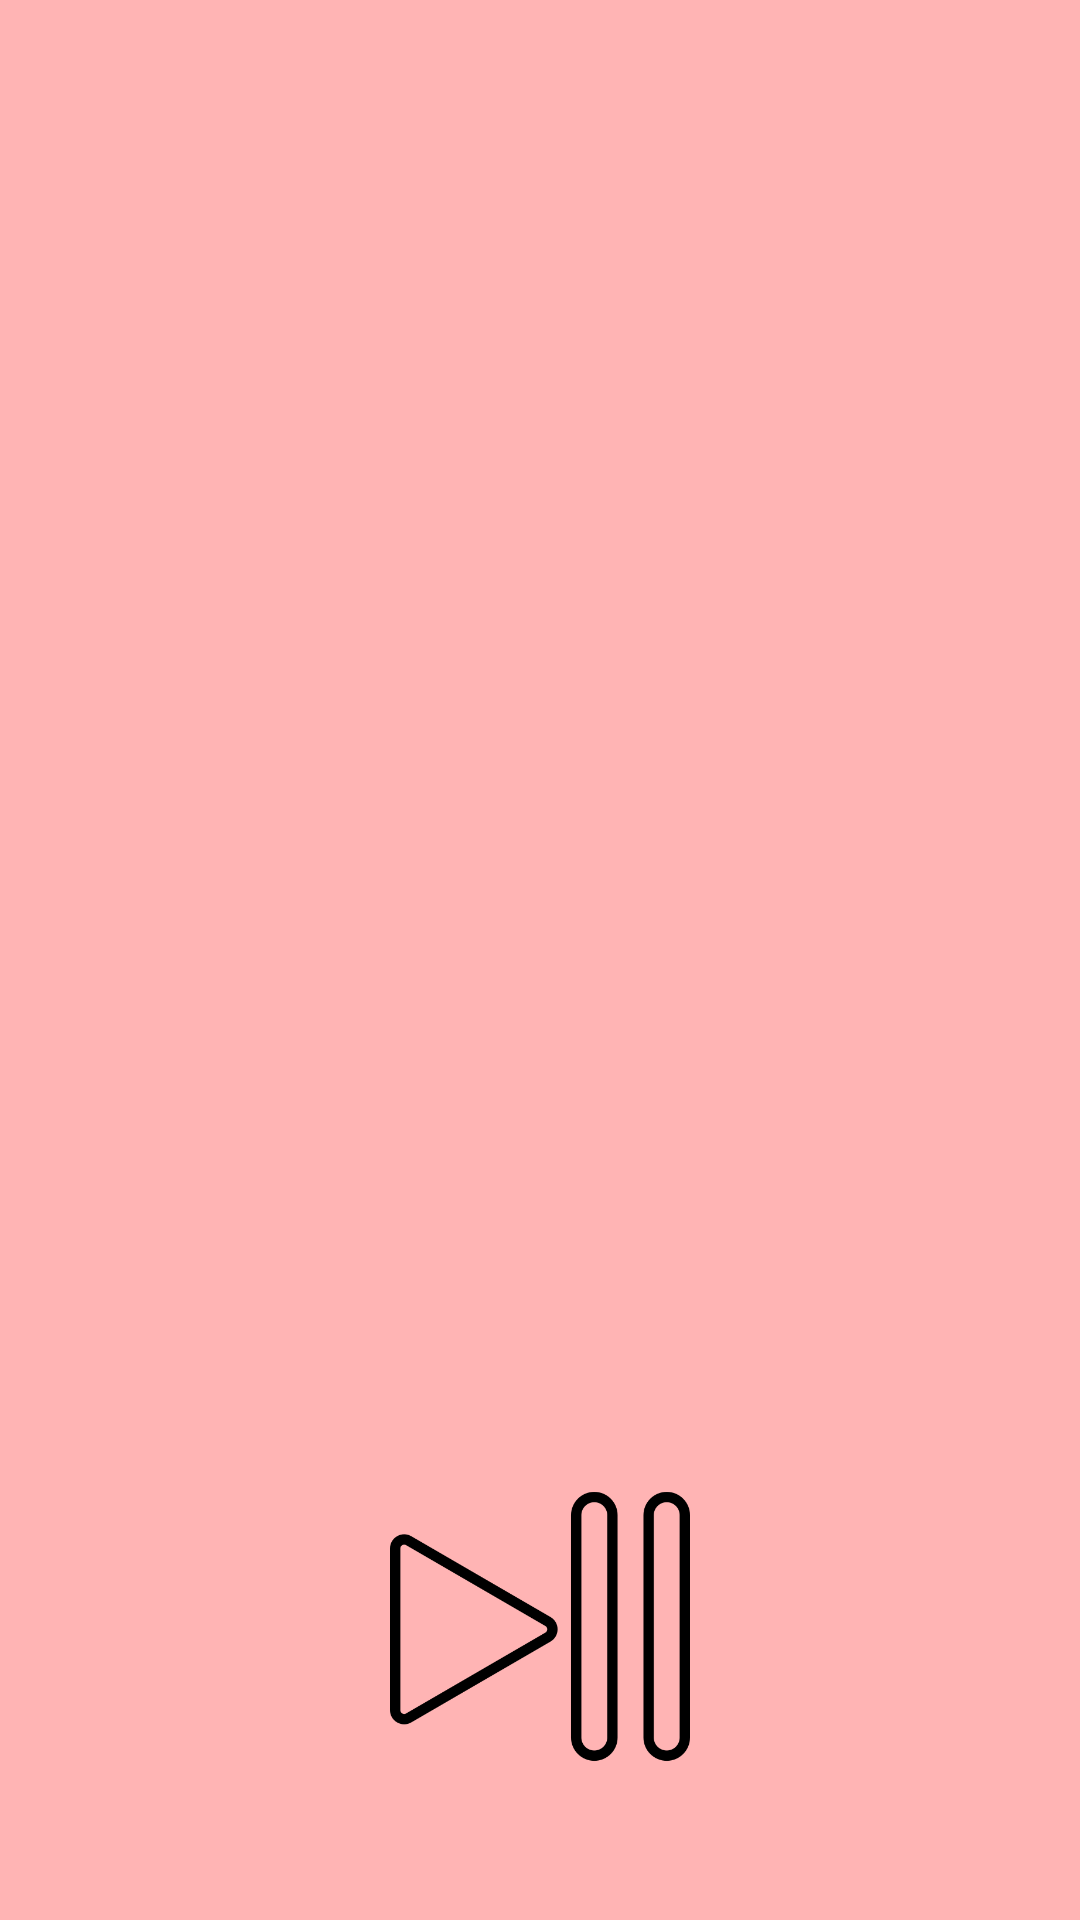

Named icons in this screenshot (1080x1920) and their bounding boxes, [x1, y1, x2, y2]:
play: [390, 1492, 690, 1761]
